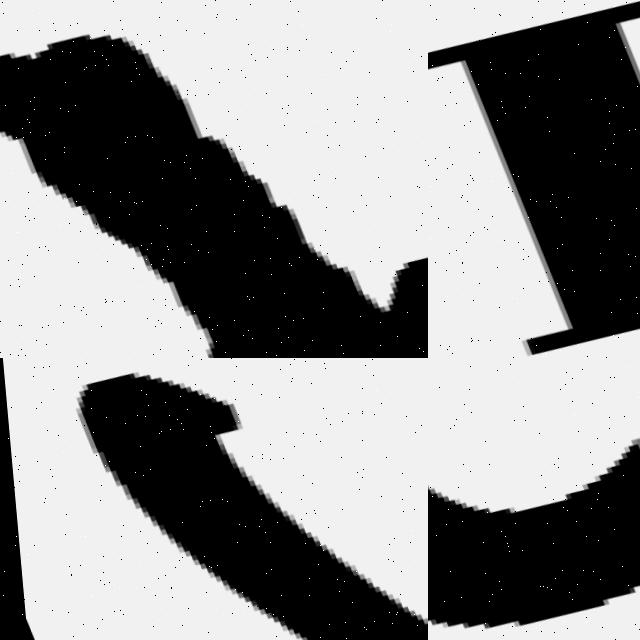7: (52, 358, 428, 640)
C: (428, 428, 640, 620)
I: (428, 0, 640, 358)
R: (0, 0, 428, 358)
